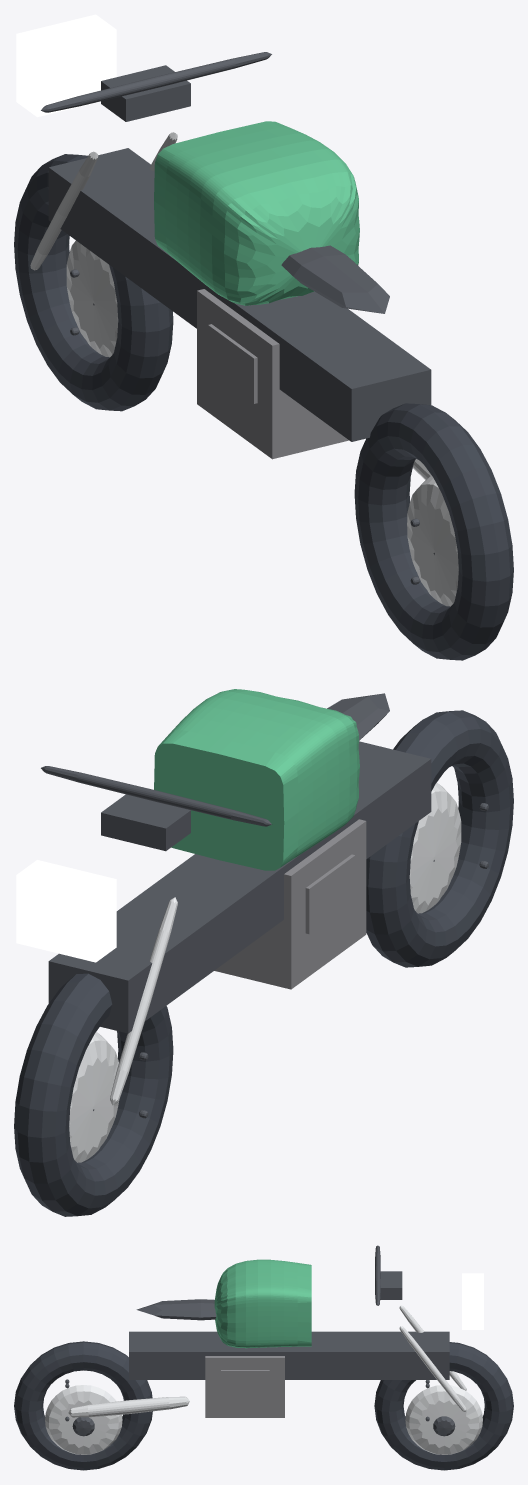
The model's file is motorcycle_verde.glb.
The picture shows the model from 3 angles, top to bottom: view 1: azimuth 30°, elevation 25°; view 2: azimuth 150°, elevation 25°; view 3: azimuth 270°, elevation 25°; orthographic projection. The views are drawn at different scales.
Visible parts, largest first — view 1: Moto, MotoWheelR, MotoWheelF; view 2: Moto, MotoWheelF, MotoWheelR; view 3: Moto, MotoWheelR, MotoWheelF.
Part boxes in pixels (x1,y1,x2,y2): Moto: (16,14,431,479); MotoWheelR: (354,403,513,660); MotoWheelF: (14,154,173,411); Moto: (16,689,431,1105); MotoWheelF: (14,973,173,1216); MotoWheelR: (366,710,513,967); Moto: (68,1245,483,1417); MotoWheelR: (14,1341,152,1470); MotoWheelF: (374,1342,513,1470).
Bounding box in the file's own units: 0.64 × 0.9792 × 2.26.
